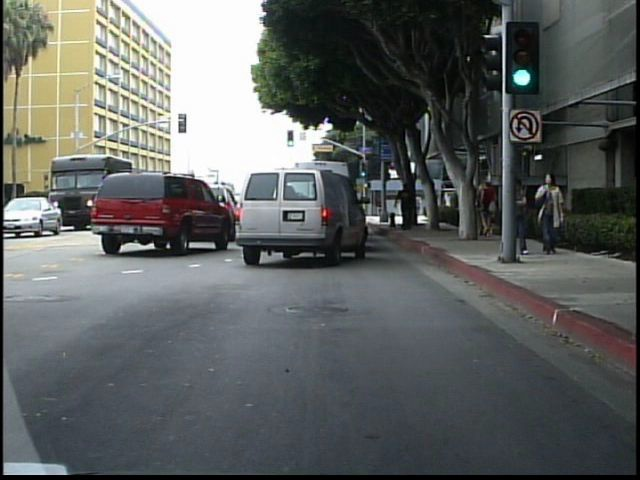person: (531, 171, 571, 262), (512, 174, 535, 261), (464, 172, 486, 246), (479, 173, 501, 243), (396, 181, 419, 236), (413, 185, 427, 224)
